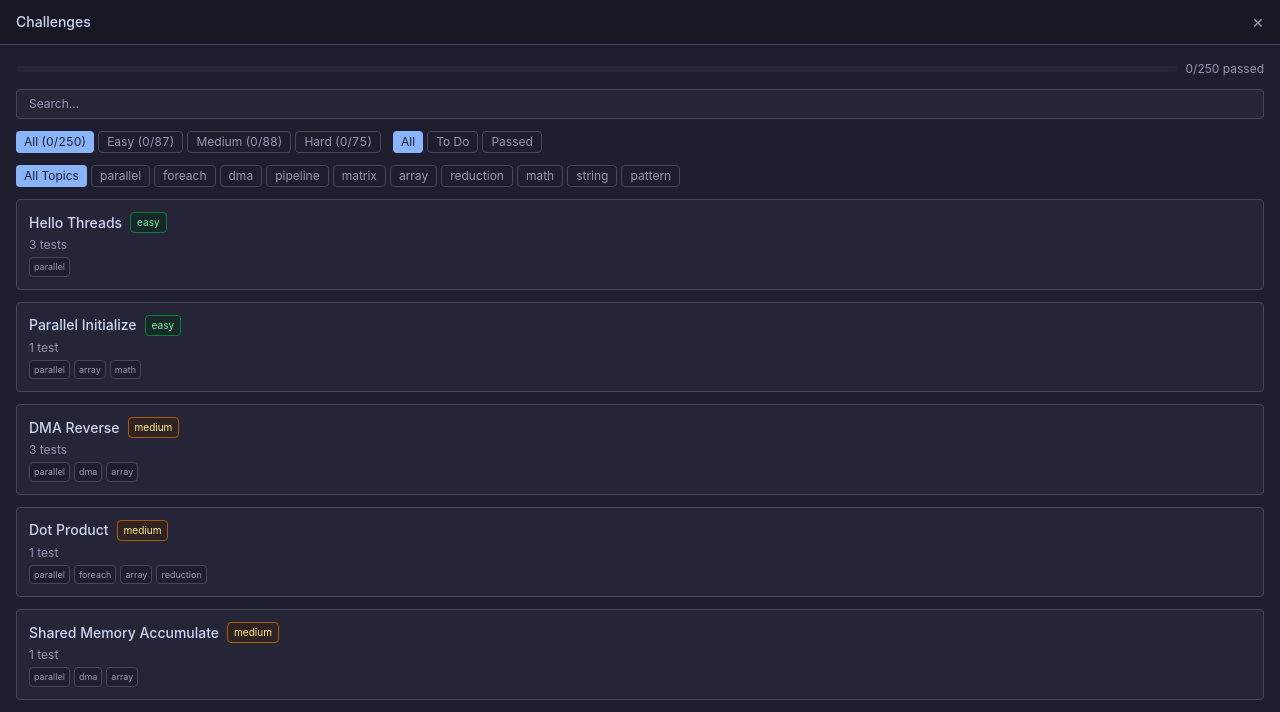
Test: ChallengePanel › returns to list on Back click
Click the text "Hello Threads".
click(76, 222)  # box top-left (29, 212), bottom-right (122, 232)
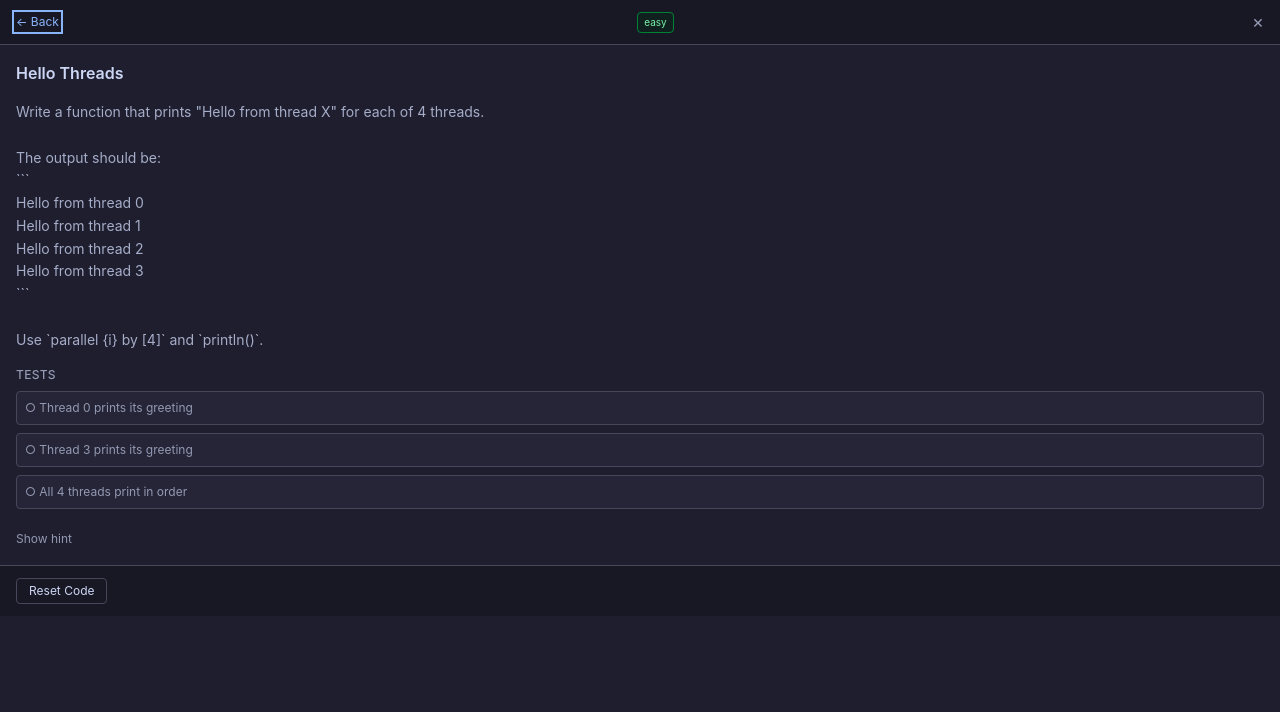
Click the button "← Back".
click(37, 22)  # box top-left (16, 14), bottom-right (59, 30)
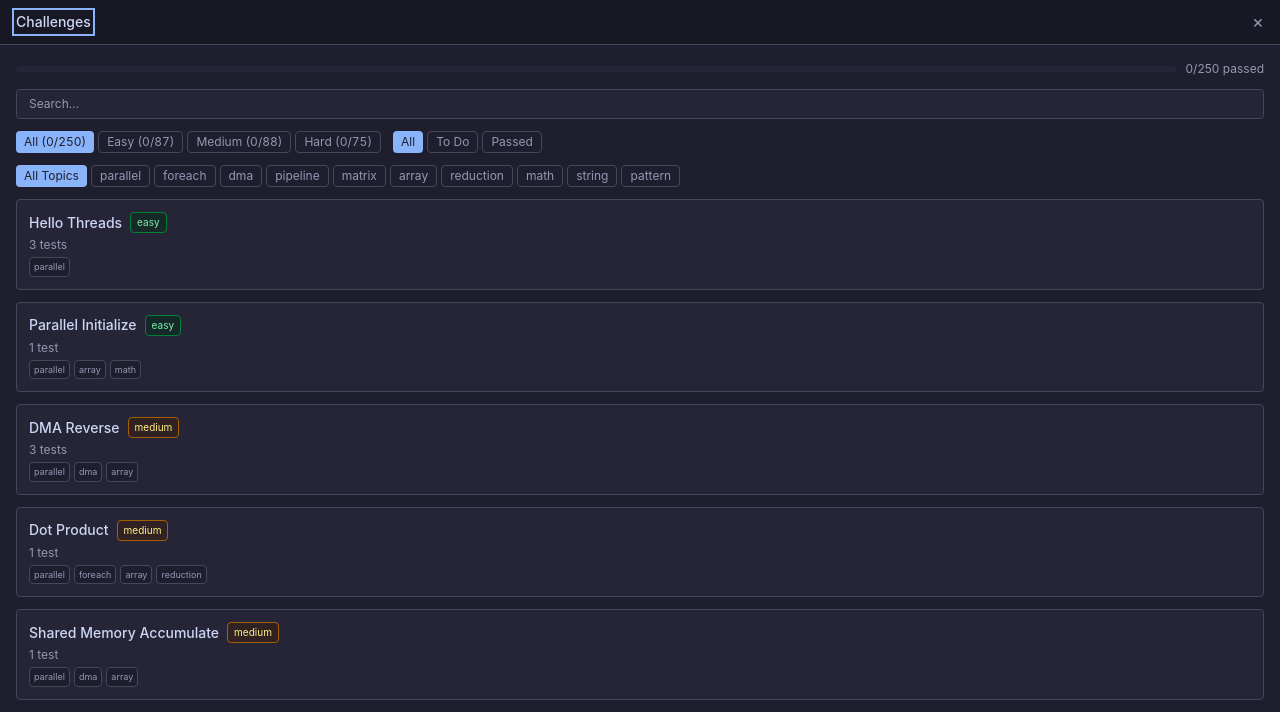
Check: the text "Challenges" is shown, box top-left (16, 12), bottom-right (91, 32)
